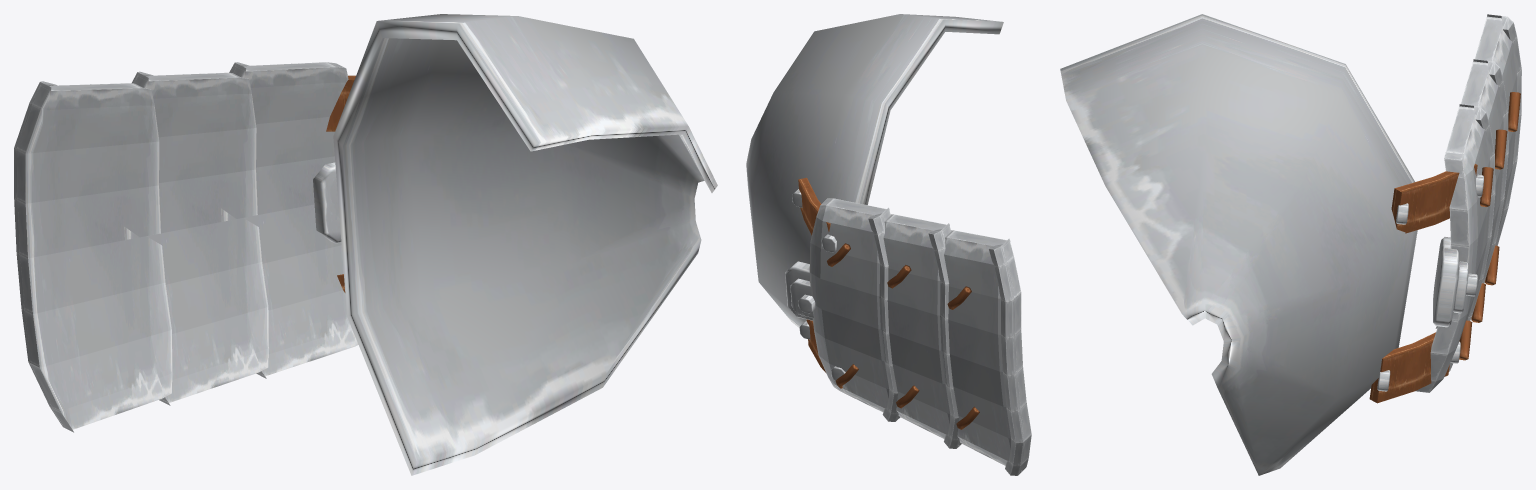
The model's file is Armor_LeftShoulder.fbx.
3 views of the same model, side by side, from view 1: azimuth 30°, elevation 25°; view 2: azimuth 150°, elevation 25°; view 3: azimuth 270°, elevation 25° (orthographic). The views are drawn at different scales.
Parts seen in each view (by area): view 1: Left_compact_protective_joint_cap, Left_bowed_sode_course_2, Left_bowed_sode_course_1, Left_bowed_sode_course_0, Left_sode_suspension_hinge, Left_broad_sode_edge_2; view 2: Left_compact_protective_joint_cap, Left_bowed_sode_course_2, Left_bowed_sode_course_0, Left_bowed_sode_course_1, Left_broad_sode_edge_2, Left_broad_sode_edge_1, Left_broad_sode_edge_0, Left_load_bearing_sode_hanger_0_051, Left_sode_suspension_hinge, Left_hinge_bronze_cover, Left_load_bearing_sode_hanger__0_051; view 3: Left_compact_protective_joint_cap, Left_bowed_sode_course_0, Left_load_bearing_sode_hanger_0_051, Left_load_bearing_sode_hanger__0_051, Left_bowed_sode_course_2, Left_bowed_sode_course_1, Left_sode_suspension_hinge, Left_broad_sode_edge_2, Left_broad_sode_edge_1, Left_broad_sode_edge_0, Left_hinge_bronze_cover.
Boxes of the visible parts, x1=… form: Left_compact_protective_joint_cap: x1=333, y1=14, x2=717, y2=475; Left_bowed_sode_course_2: x1=16, y1=82, x2=172, y2=432; Left_bowed_sode_course_1: x1=124, y1=72, x2=268, y2=405; Left_bowed_sode_course_0: x1=221, y1=62, x2=358, y2=378; Left_sode_suspension_hinge: x1=313, y1=162, x2=341, y2=243; Left_broad_sode_edge_2: x1=14, y1=81, x2=63, y2=427; Left_compact_protective_joint_cap: x1=746, y1=14, x2=1003, y2=327; Left_bowed_sode_course_2: x1=940, y1=230, x2=1031, y2=474; Left_bowed_sode_course_0: x1=809, y1=198, x2=900, y2=420; Left_bowed_sode_course_1: x1=879, y1=214, x2=961, y2=446; Left_broad_sode_edge_2: x1=989, y1=244, x2=1024, y2=475; Left_broad_sode_edge_1: x1=928, y1=228, x2=959, y2=448; Left_broad_sode_edge_0: x1=868, y1=213, x2=898, y2=421; Left_load_bearing_sode_hanger_0_051: x1=798, y1=177, x2=830, y2=235; Left_sode_suspension_hinge: x1=785, y1=261, x2=812, y2=320; Left_hinge_bronze_cover: x1=790, y1=278, x2=813, y2=317; Left_load_bearing_sode_hanger__0_051: x1=806, y1=319, x2=842, y2=388; Left_compact_protective_joint_cap: x1=1060, y1=14, x2=1417, y2=475; Left_bowed_sode_course_0: x1=1415, y1=104, x2=1489, y2=392; Left_load_bearing_sode_hanger_0_051: x1=1391, y1=164, x2=1477, y2=233; Left_load_bearing_sode_hanger__0_051: x1=1369, y1=332, x2=1449, y2=403; Left_bowed_sode_course_2: x1=1435, y1=14, x2=1516, y2=328; Left_bowed_sode_course_1: x1=1460, y1=59, x2=1503, y2=278; Left_sode_suspension_hinge: x1=1433, y1=237, x2=1459, y2=327; Left_broad_sode_edge_2: x1=1495, y1=16, x2=1521, y2=245; Left_broad_sode_edge_1: x1=1482, y1=61, x2=1508, y2=283; Left_broad_sode_edge_0: x1=1449, y1=106, x2=1495, y2=371; Left_hinge_bronze_cover: x1=1453, y1=261, x2=1468, y2=313.
Bounding box in the file's own units: 29.4 × 26.39 × 25.46.
Materials: 5 (5 with a texture image).
